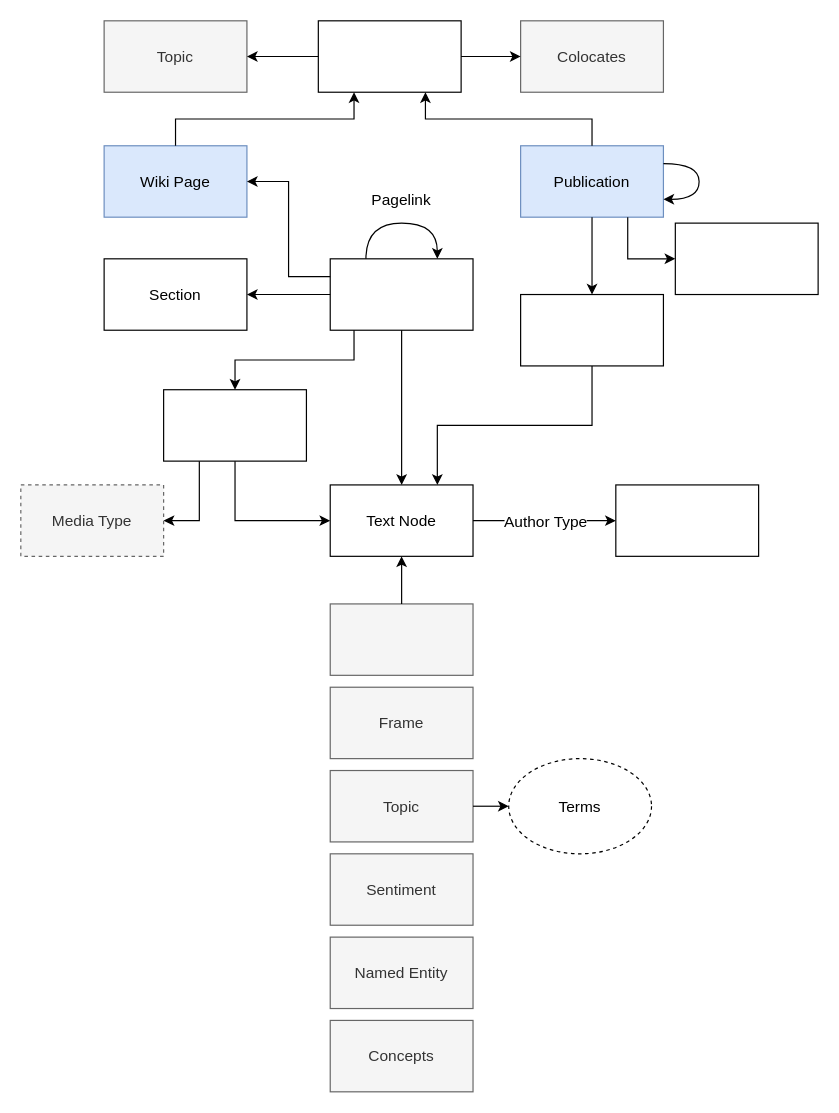
Some shapes in this 839 by 1113 pixel diagram are drawn without their labels. The shapes that lost their labels are listed below. From the top down, each one's centre as x and y in pixels, then its label:
At point (389, 56): "Corpus".
At point (746, 258): "Venue".
At point (401, 294): "Revision".
At point (591, 329): "Abstract".
At point (234, 425): "Web Ressource".
At point (687, 520): "Author".
At point (401, 639): "Key Term".
